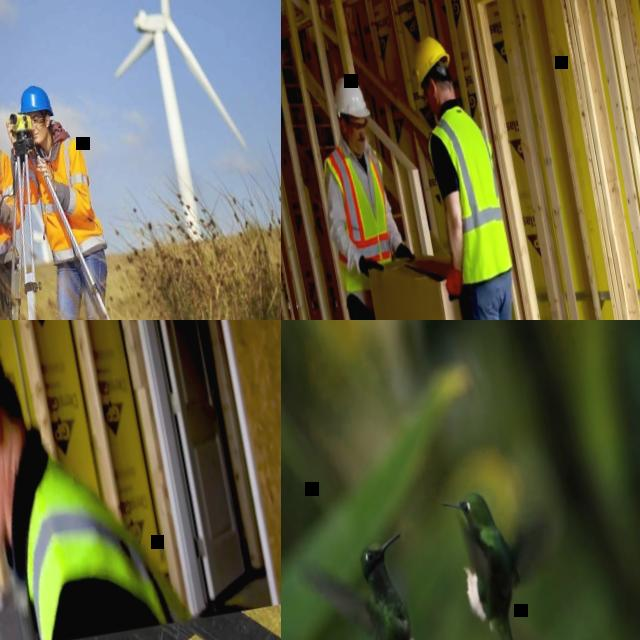Hardhat: (408, 30, 454, 94), (328, 71, 371, 123), (14, 82, 54, 121)
NO-Mask: (348, 134, 367, 155), (31, 124, 49, 145), (428, 91, 439, 118)
Person: (0, 320, 187, 640), (401, 22, 567, 320), (301, 67, 450, 320), (3, 74, 131, 320), (0, 77, 52, 320)
Safety Vest: (6, 441, 186, 640), (421, 100, 514, 286), (316, 136, 404, 294), (22, 131, 110, 265), (0, 137, 28, 263)
